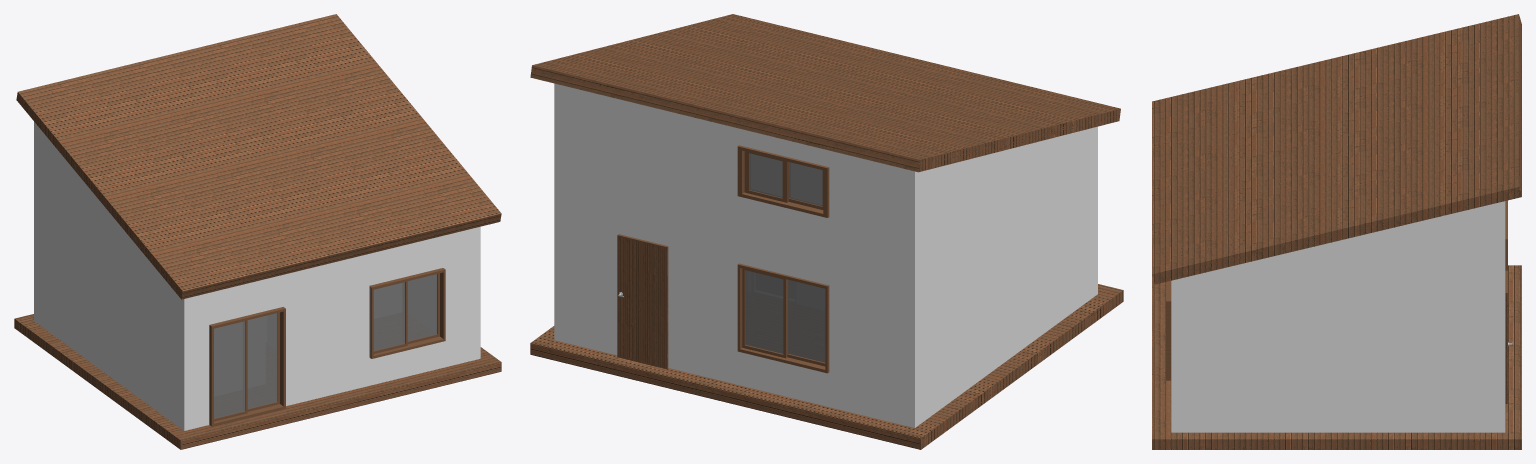
3 views of the same model, side by side, from view 1: azimuth 30°, elevation 25°; view 2: azimuth 150°, elevation 25°; view 3: azimuth 270°, elevation 25° (orthographic). The views are drawn at different scales.
Parts seen in each view (by area): view 1: Brep (×8), Mesh (×10); view 2: Brep (×8), Mesh (×14); view 3: Brep (×7), Mesh (×2).
Part boxes in pixels (left/top/right/bottom): Brep (×8): left=14, top=14, right=501, bottom=449; Mesh (×10): left=209, top=268, right=445, bottom=426; Brep (×8): left=530, top=14, right=1123, bottom=449; Mesh (×14): left=617, top=145, right=829, bottom=373; Brep (×7): left=1152, top=14, right=1521, bottom=449; Mesh (×2): left=1166, top=270, right=1507, bottom=403.
Size of what is drawn, in the model's own units: 8 by 7.19 by 5.64.
